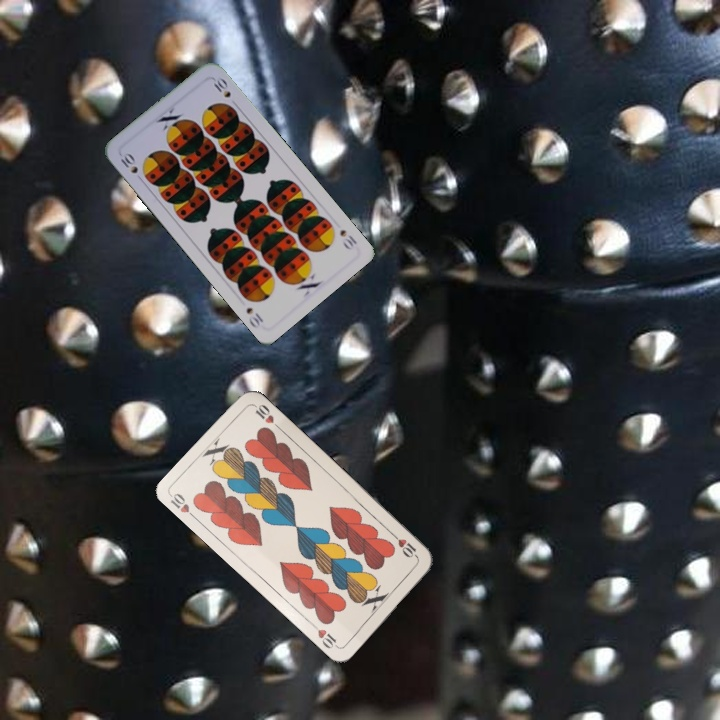H10: (166, 489, 200, 523), (388, 530, 421, 561)
S10: (115, 148, 141, 176), (336, 225, 360, 252)
